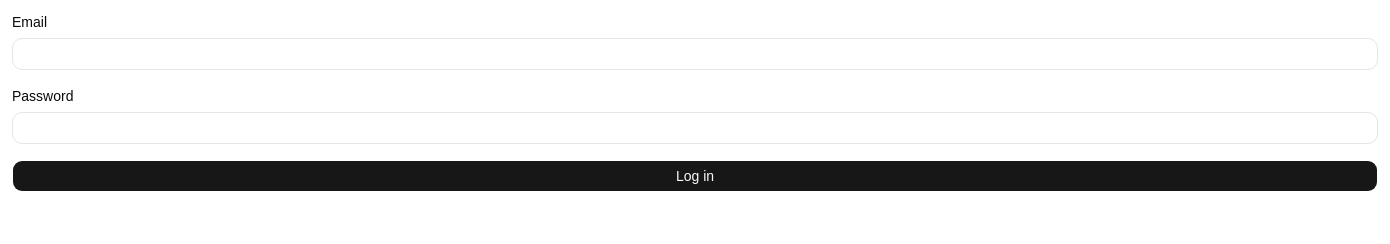
Test: LoginForm › shows the server error on failed login
In the field labelled "Email": (695, 54) [12,38,1378,70], type "ann@x.com"
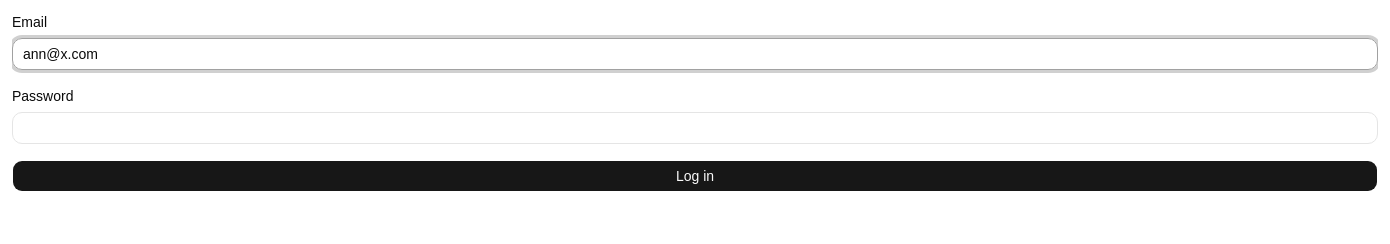
In the password field labelled "Password": (695, 128) [12,112,1378,144], type "wrong"
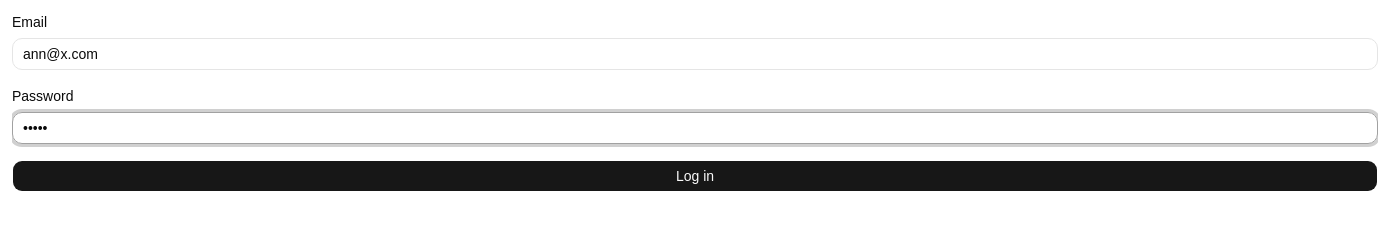
Click the button "Log in": (695, 176) [12,160,1378,192]
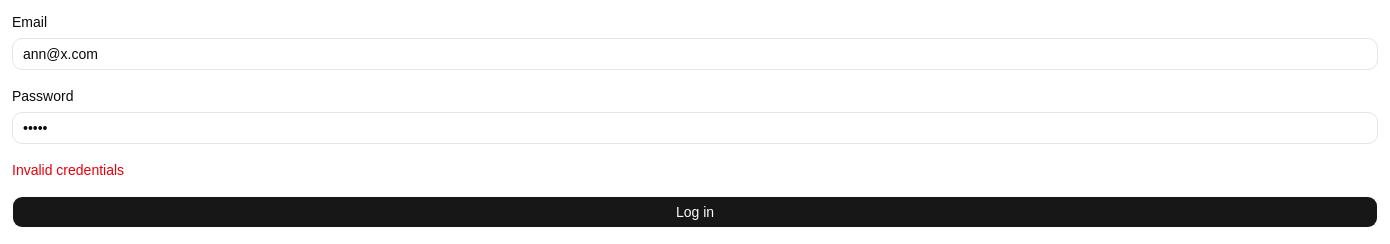
Result: the message "Invalid credentials" is shown at [12,162,124,178]
